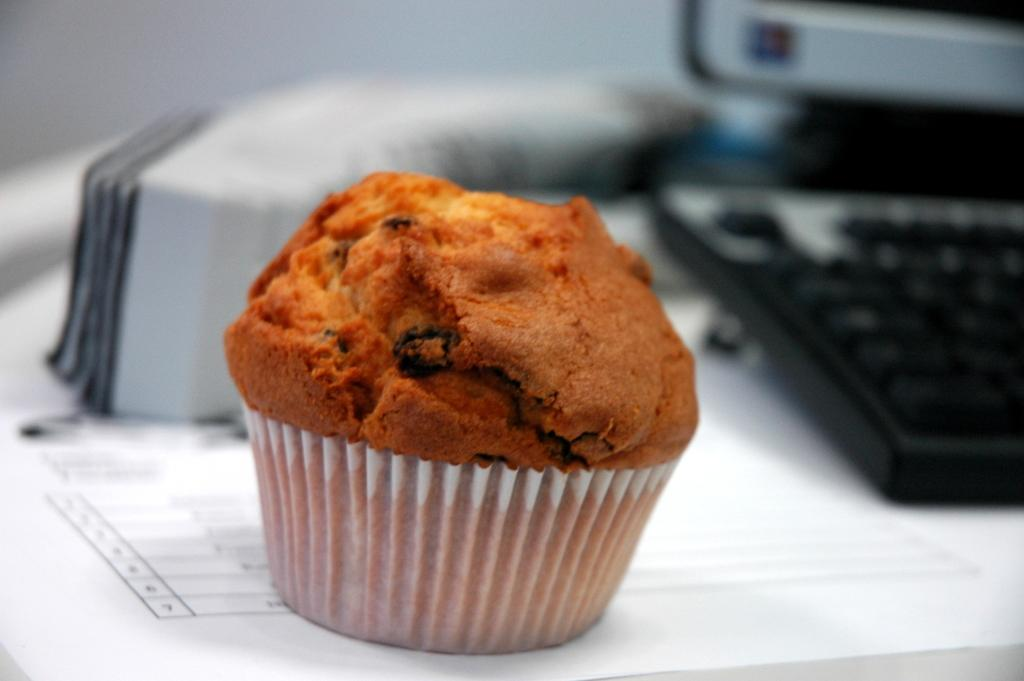Computer-keyboard: (648, 195, 1023, 502)
